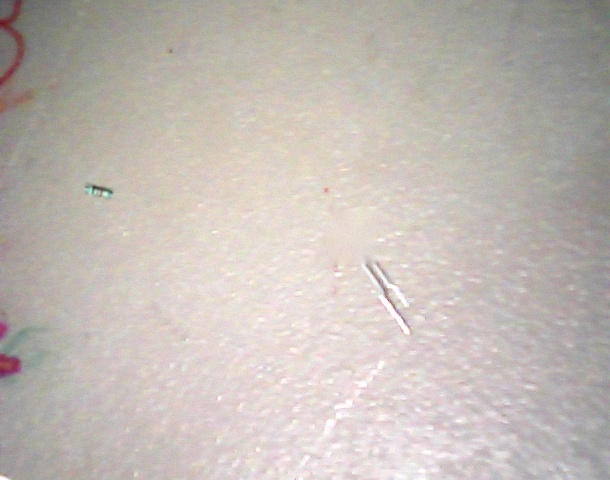resistor: (84, 183, 114, 200)
